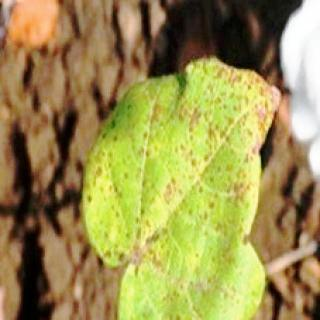leaf spot: (82, 57, 281, 320)
